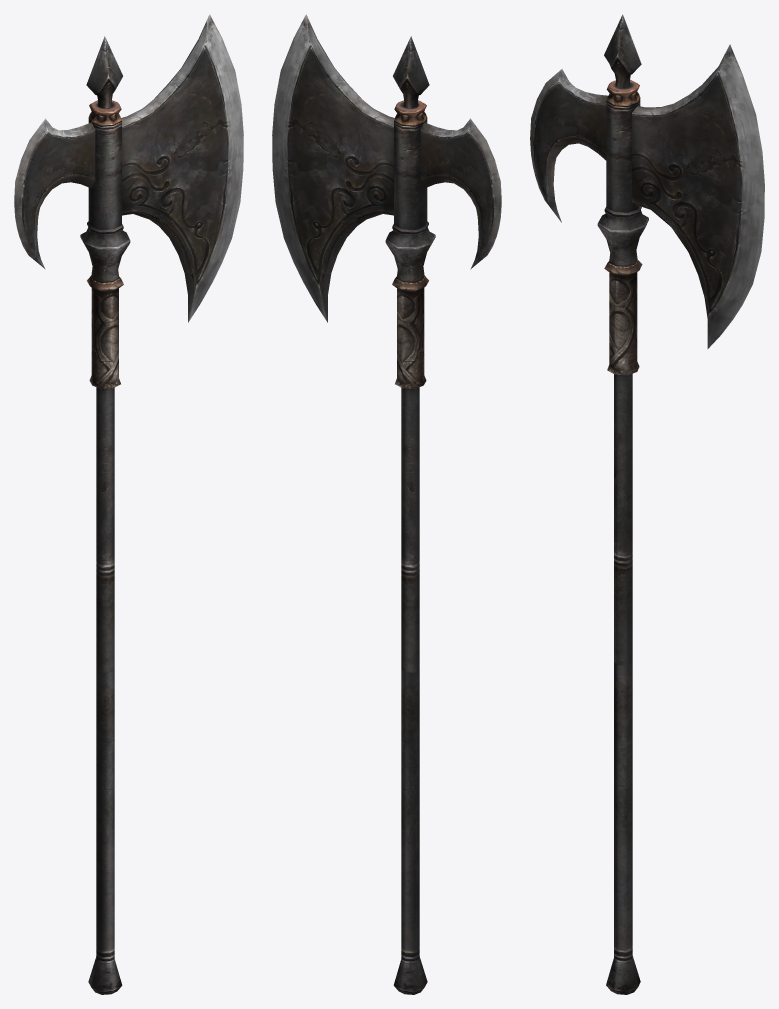
File: Weapon_82.fbx
3 renders of one model, left to right at view 1: azimuth 30°, elevation 25°; view 2: azimuth 150°, elevation 25°; view 3: azimuth 330°, elevation 25°, orthographic. The views are drawn at different scales.
Visible parts, largest first — view 1: Weapon_82; view 2: Weapon_82; view 3: Weapon_82.
Part boxes in pixels (x1,y1,x2,y2): Weapon_82: [14, 14, 243, 994]; Weapon_82: [272, 14, 501, 994]; Weapon_82: [530, 14, 764, 994].
Bounding box in the file's own units: 57.2 × 10.92 × 227.
